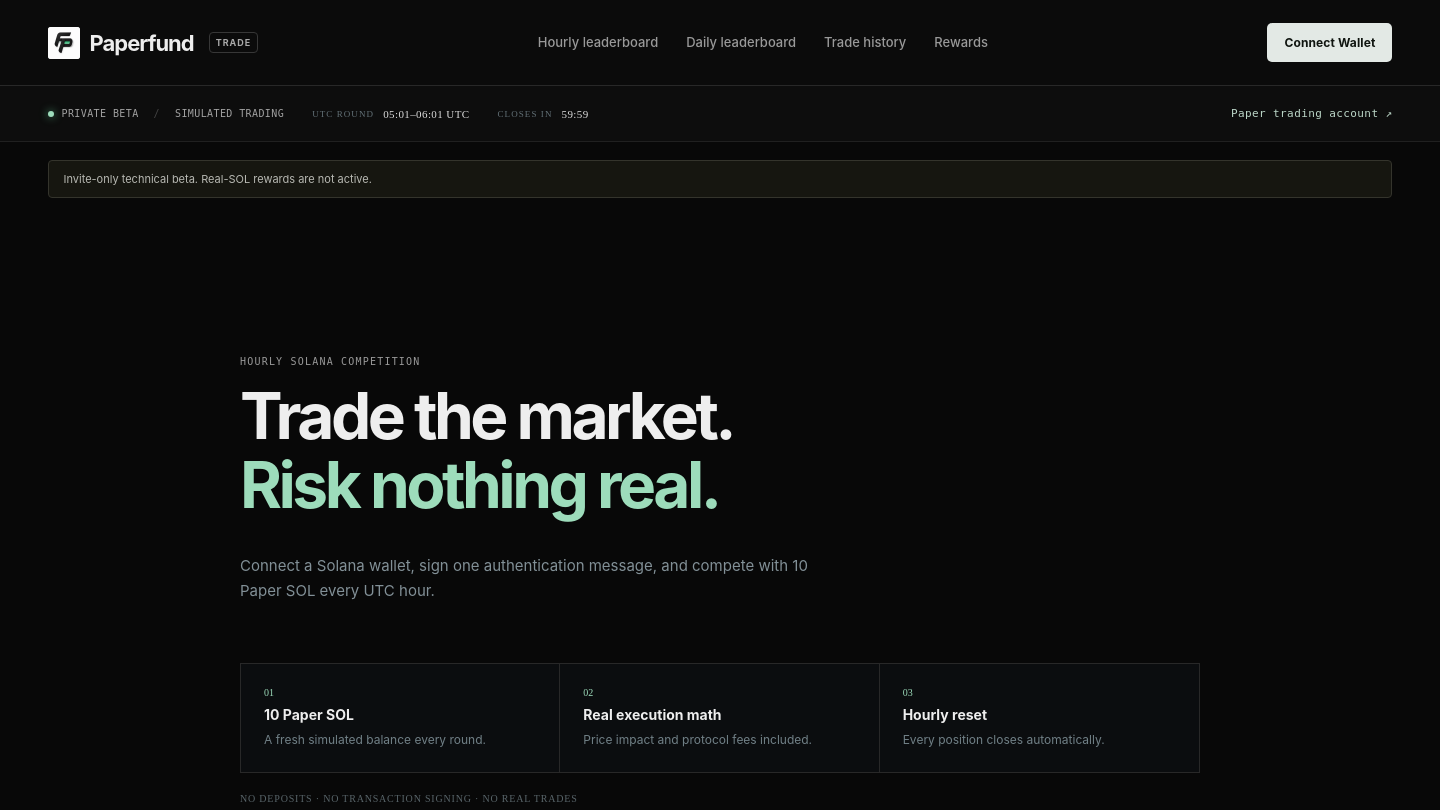
Test case: explains a missing browser wallet before connection succeeds
Click the button "Connect Wallet" at [1330, 42], box [1267,23,1392,62]
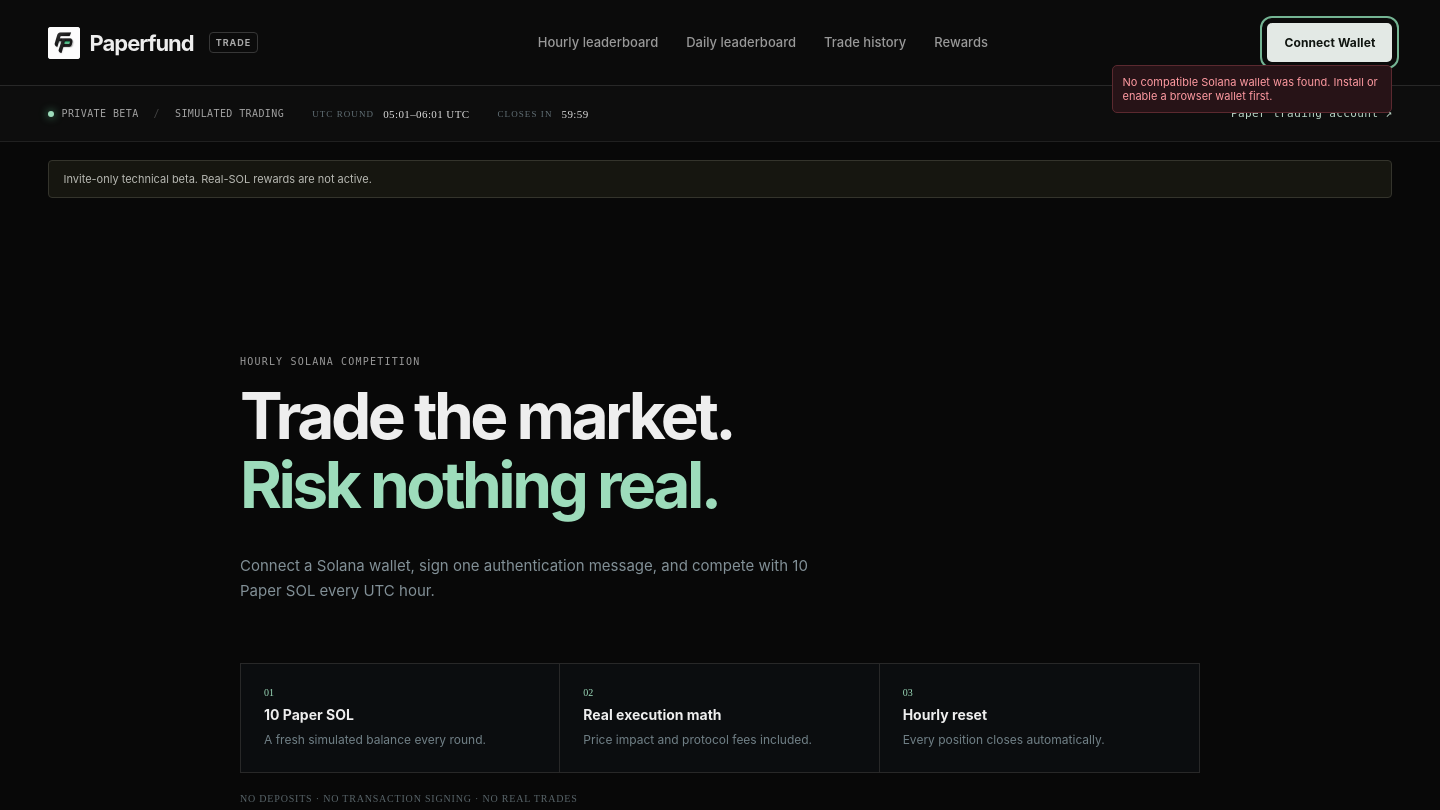
Check: the message shows "No compatible Solana wallet", box [1122,75,1378,103]
